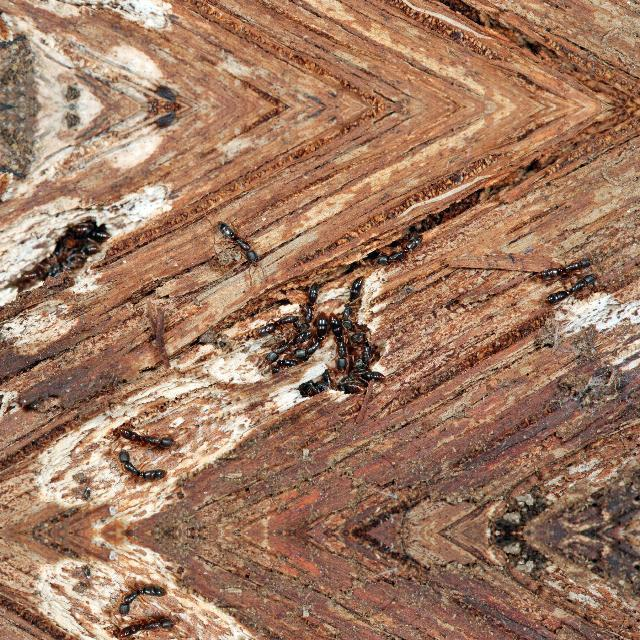Ponera: (210, 209, 274, 293), (104, 401, 178, 451), (251, 324, 317, 364), (534, 272, 598, 308), (286, 381, 374, 404), (49, 246, 111, 278), (104, 614, 178, 640), (534, 244, 588, 278), (296, 272, 324, 331), (117, 447, 165, 481), (117, 584, 165, 618), (388, 229, 432, 265), (302, 316, 338, 360), (346, 265, 372, 321), (249, 300, 291, 334), (354, 320, 380, 366), (70, 212, 112, 240), (327, 310, 348, 364), (338, 366, 388, 384), (8, 274, 58, 286), (268, 357, 308, 371)
